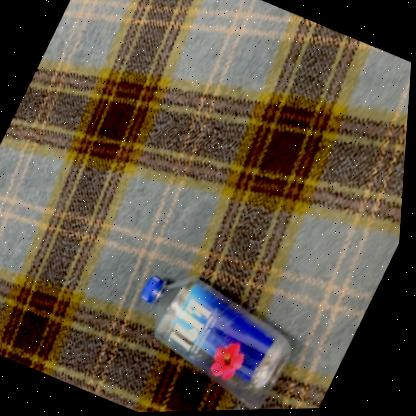Plastic: (146, 276, 296, 410)
